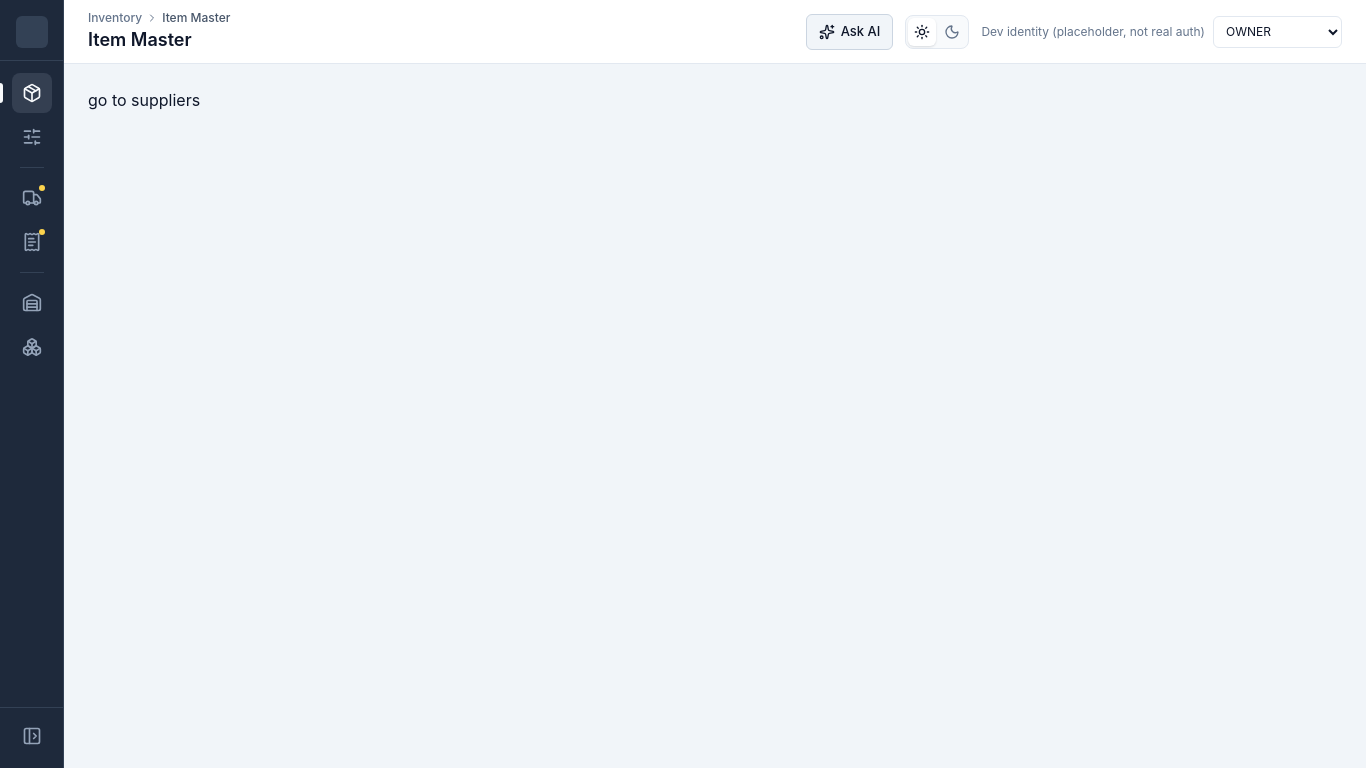
it: Panel open / close / Esc / expand (desktop, mouse) › ✕ closes and returns focus to the Ask AI button
Click the button "Ask AI" at (850, 32), box [806,14,893,50]
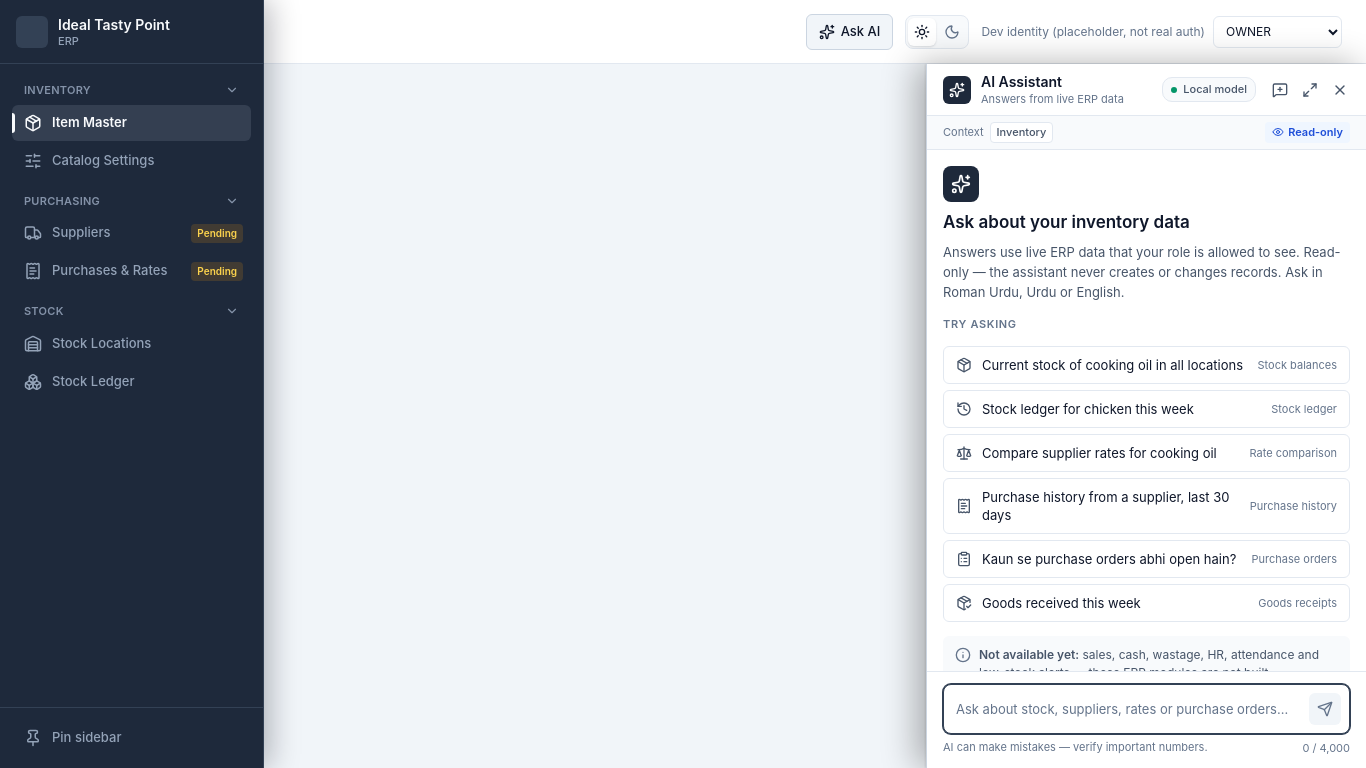
Click the button named "Close AI Assistant" at (1340, 90), box [1326,76,1354,104]
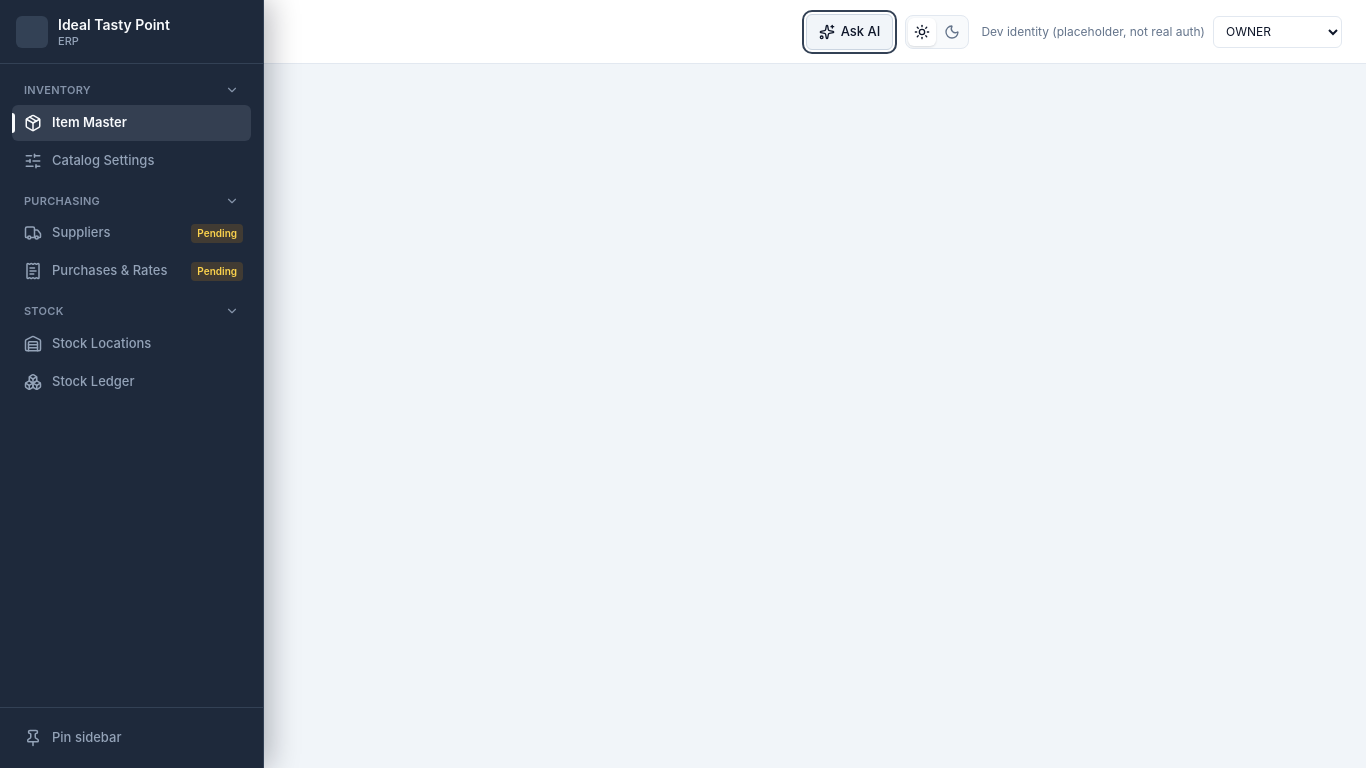
Check: the dialog with test id "ai-panel" is gone
